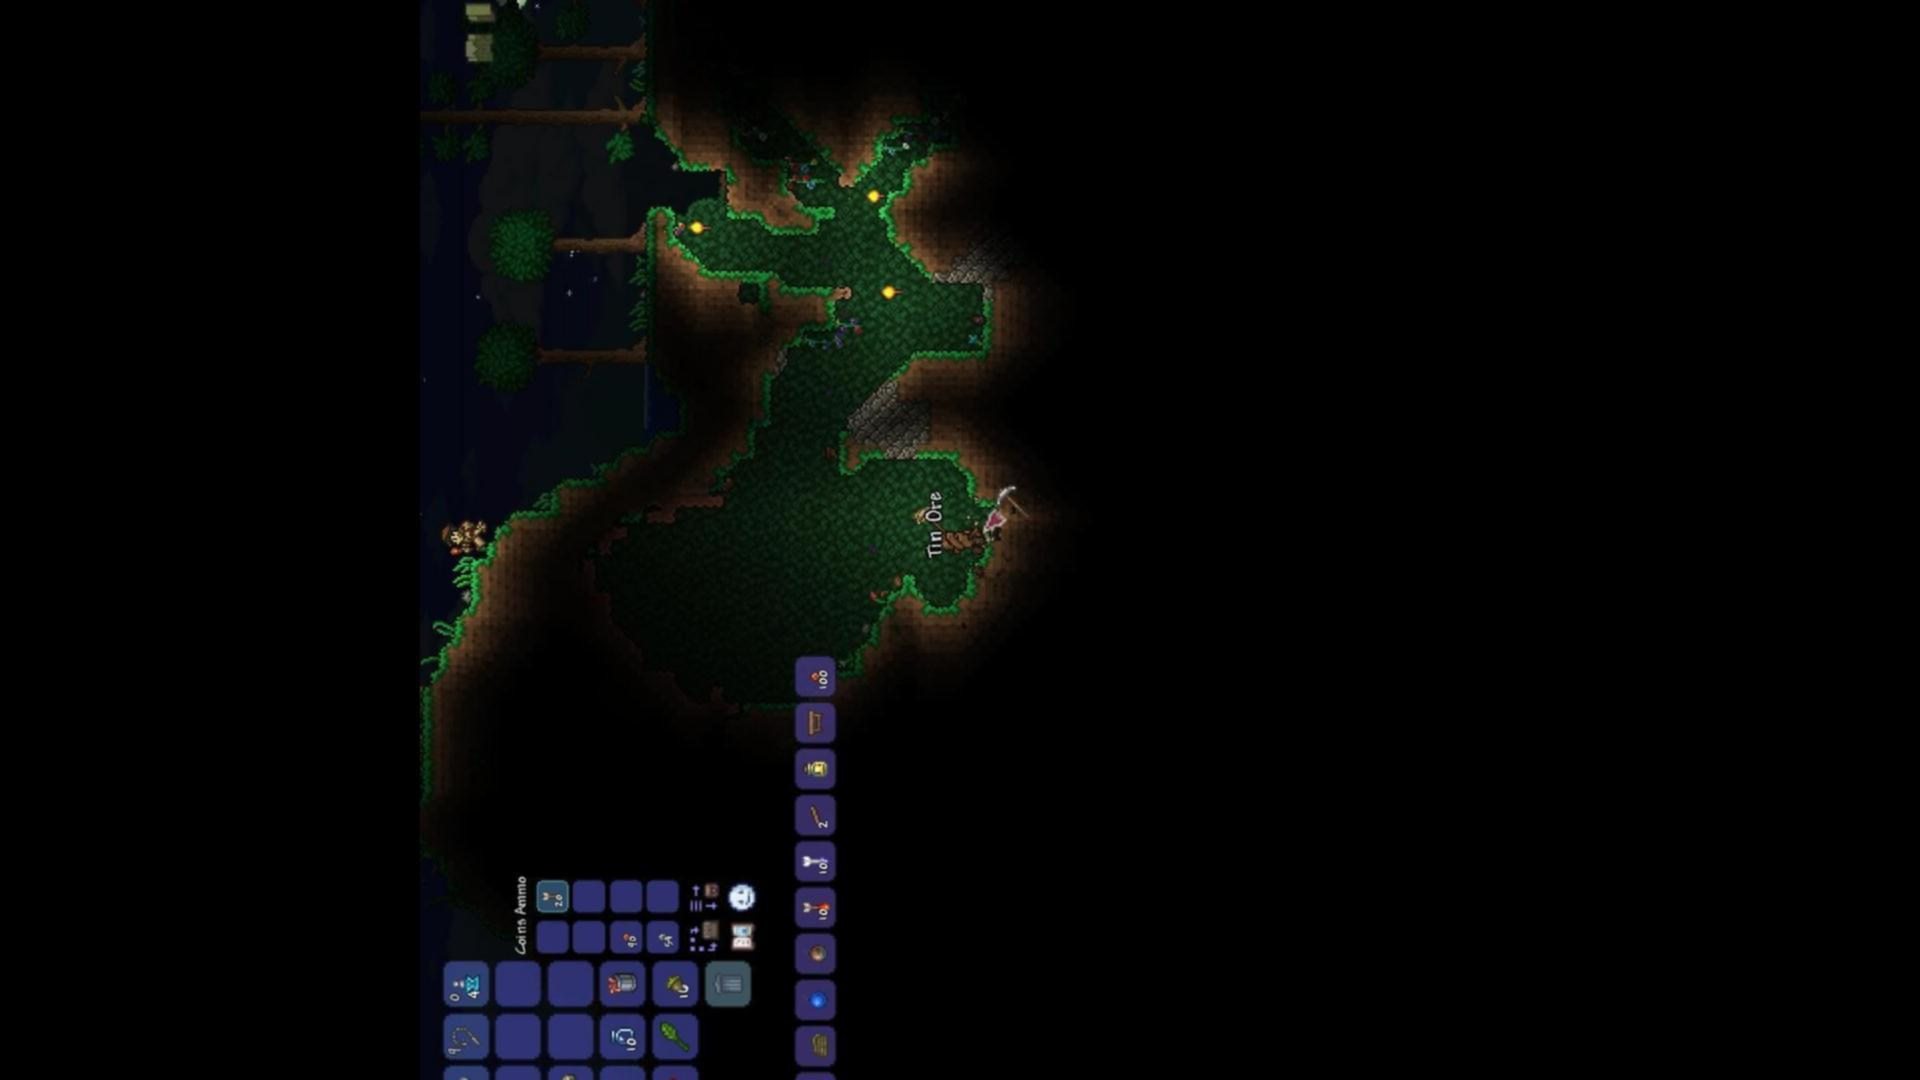arrow: (799, 899, 828, 915), (796, 853, 827, 866), (537, 889, 564, 902)
bar: (555, 1069, 582, 1080)
recallP: (451, 972, 481, 990)
workbench: (803, 707, 824, 737)
